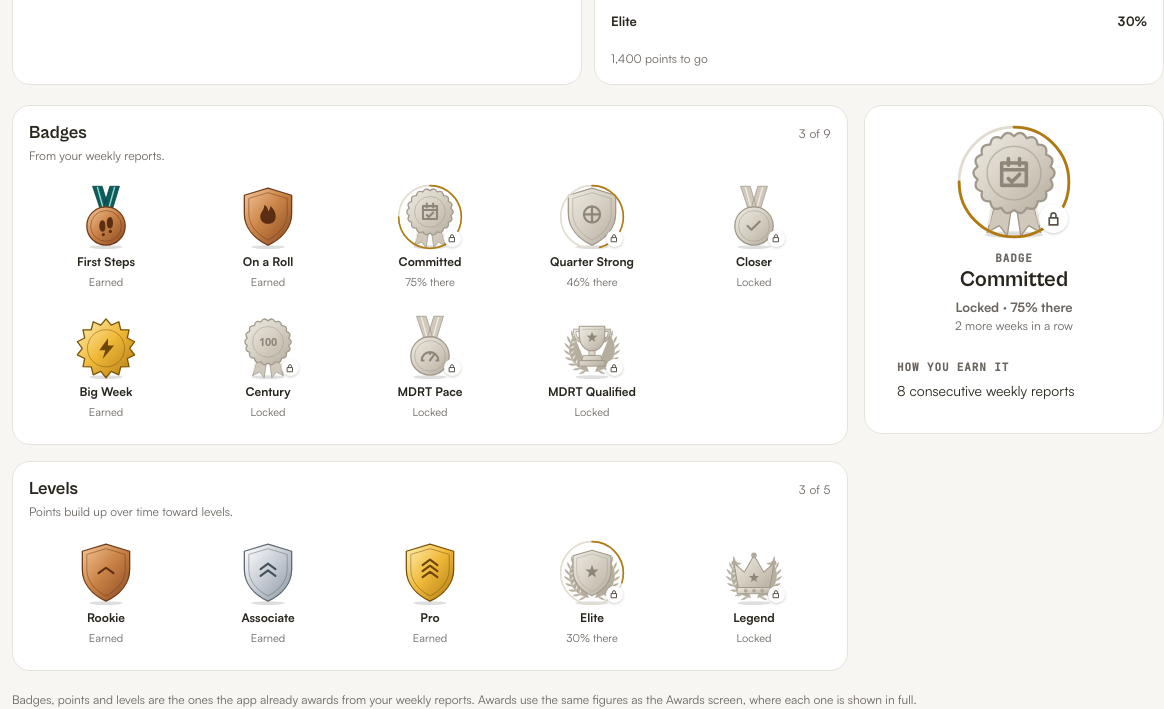
Scenario: FrTrophyRoomView › selecting a trophy shows how it is earned (engine copy, TTD)
(page scrolled)
Click the button with test id "trophy-big_week": (106,367) [29,307,183,428]
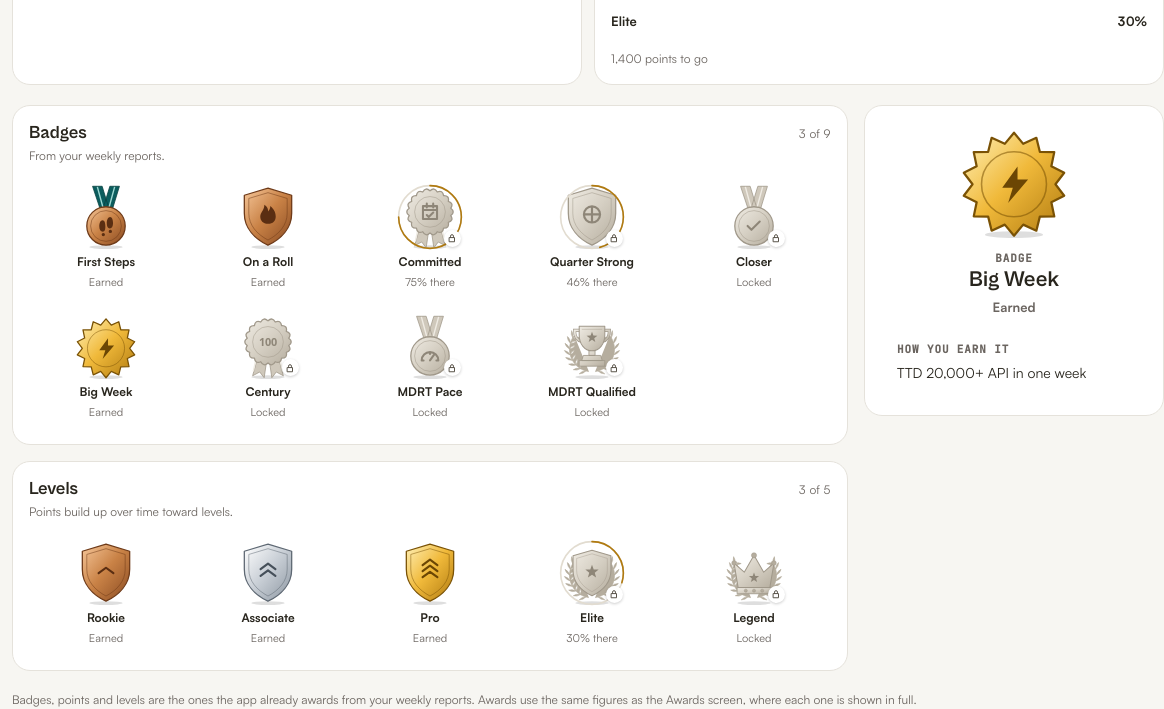
Expected: the element with test id "trophy-detail" shows "Big Week", [969,267,1059,292]
Expected: the element with test id "trophy-detail" shows "TTD 20,000+ API in one week", [897,364,1086,381]
